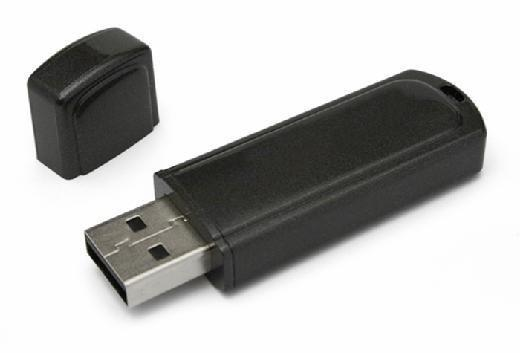USB Flash Drive: (84, 70, 488, 309)
